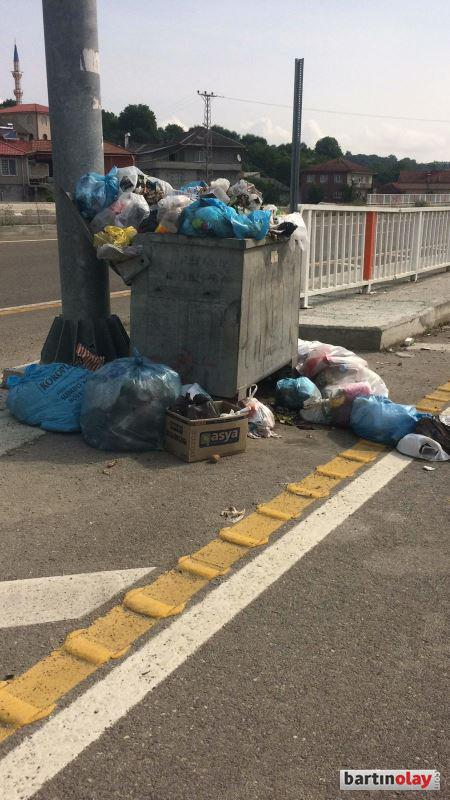Container: (122, 234, 301, 393)
Garbage: (79, 157, 295, 230), (334, 391, 446, 465), (97, 354, 181, 448), (170, 394, 261, 480), (16, 349, 109, 432), (280, 337, 383, 411), (186, 199, 262, 235), (67, 167, 119, 214), (122, 160, 169, 203), (152, 184, 193, 221), (85, 226, 137, 252), (202, 169, 239, 203), (223, 185, 267, 203)
